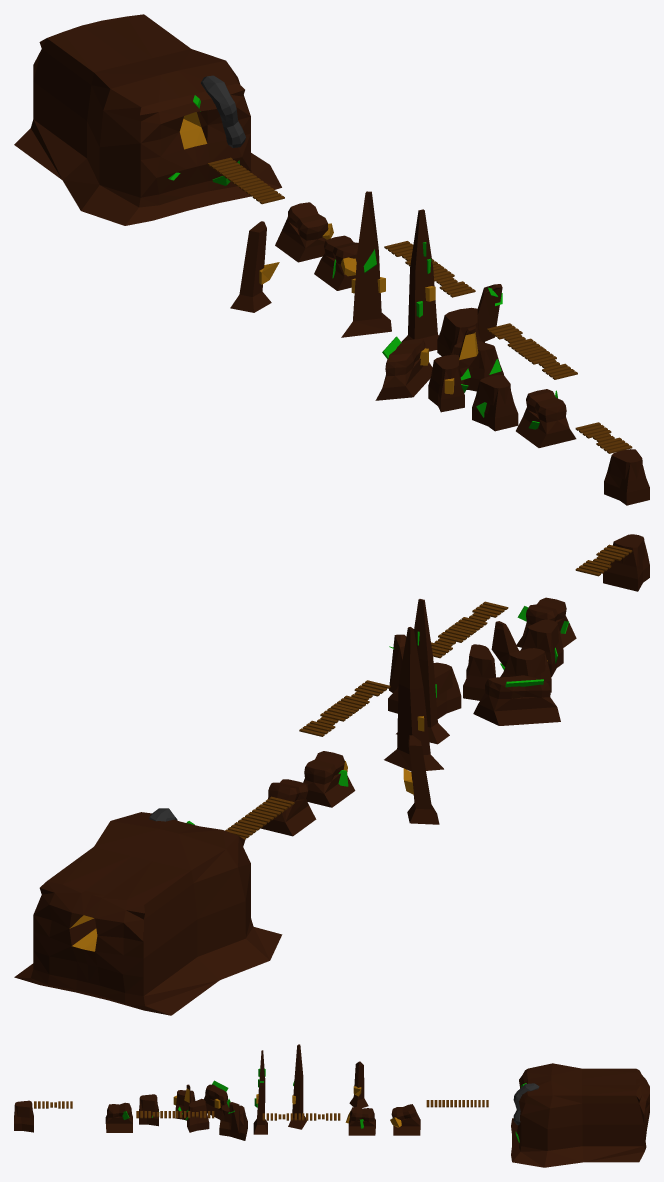
Rendered from road3.obj.
The picture shows the model from 3 angles, top to bottom: view 1: azimuth 30°, elevation 25°; view 2: azimuth 150°, elevation 25°; view 3: azimuth 270°, elevation 25°; orthographic projection. The views are drawn at different scales.
Visible parts, largest first — view 1: Cube; view 2: Cube; view 3: Cube.
Boxes of the visible parts, x1,y1,x2,y2 form: Cube: (14,14,649,505); Cube: (14,534,649,1015); Cube: (14,1044,649,1167).
Size of the model in its own units: 33.53 by 25.49 by 162.
